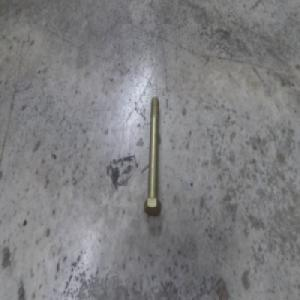Bolt: (143, 96, 162, 217)
